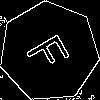F: (24, 27, 79, 76)
